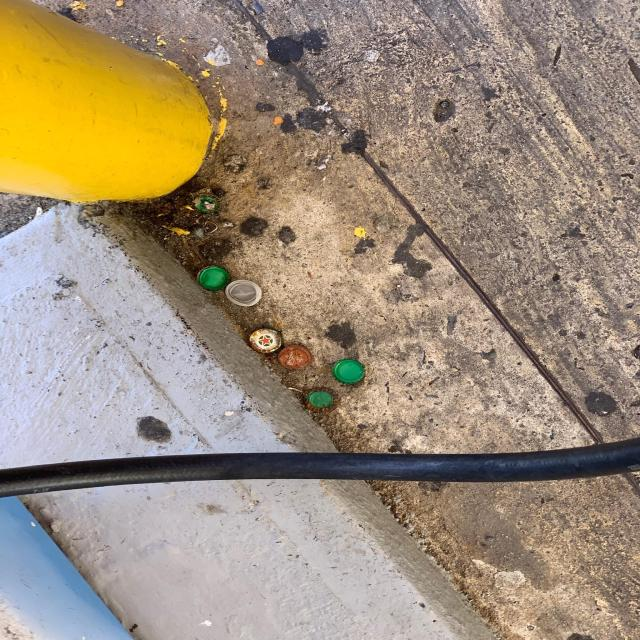litter: (298, 383, 341, 414), (226, 278, 266, 309), (327, 359, 367, 386), (195, 263, 232, 290), (249, 328, 282, 353), (278, 345, 312, 369)
